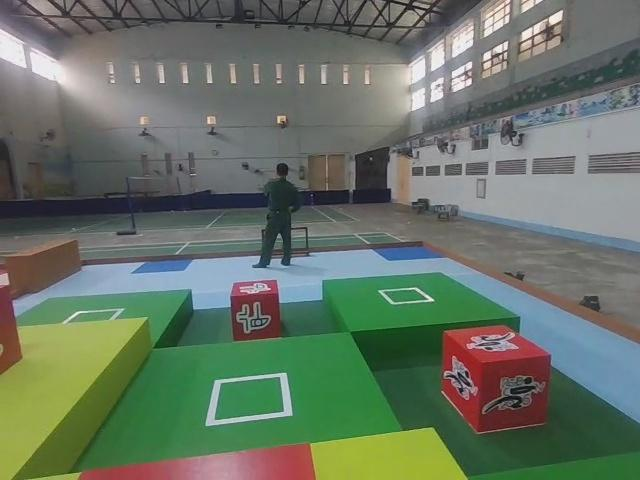R1: (437, 321, 555, 436)
R2 Real: (230, 277, 282, 341)
